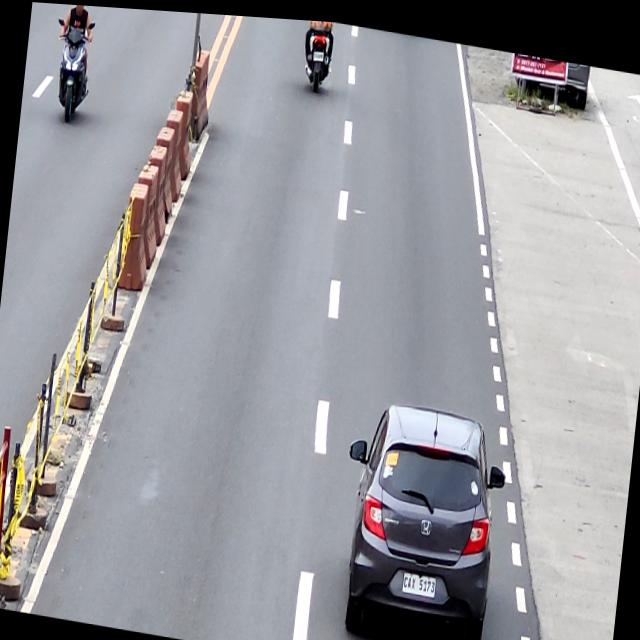Car: (330, 389, 510, 640)
License-Plate: (401, 565, 436, 594), (312, 45, 324, 58)
Motorcycle: (300, 16, 332, 89)
